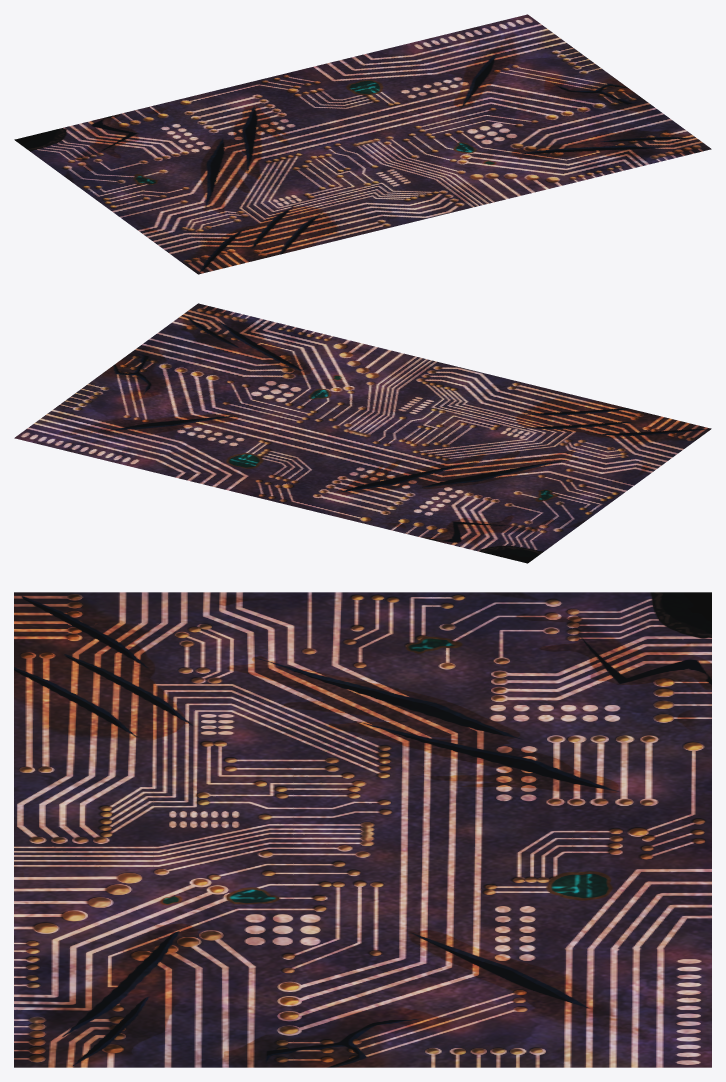
Rendered from modeli1.fbx.
The picture shows the model from 3 angles, top to bottom: view 1: azimuth 30°, elevation 25°; view 2: azimuth 150°, elevation 25°; view 3: azimuth 270°, elevation 25°; orthographic projection. The views are drawn at different scales.
Visible parts, largest first — view 1: pPlane1; view 2: pPlane1; view 3: pPlane1.
Boxes of the visible parts, x1=… form: pPlane1: x1=14, y1=14, x2=711, y2=274; pPlane1: x1=14, y1=303, x2=711, y2=563; pPlane1: x1=14, y1=592, x2=711, y2=1067.
Size of the model in its own units: 13.92 by 0 by 8.64.
1 material, 1 textured.
